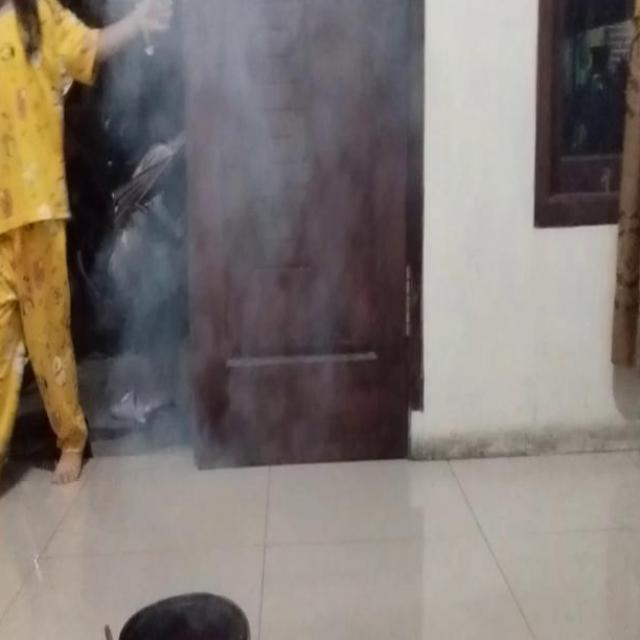fire: (123, 0, 350, 449)
